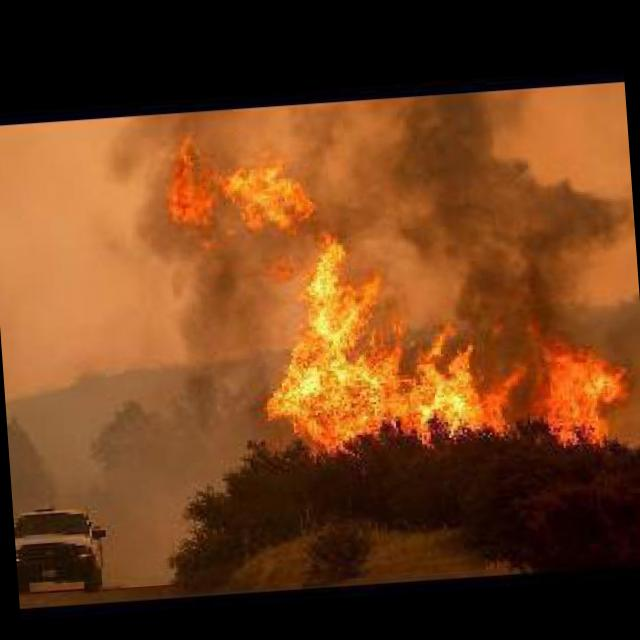fire: (165, 88, 637, 464)
